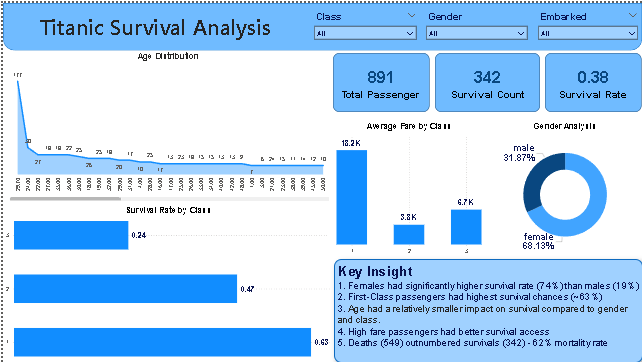

The dashboard page shown, as its layout file describes it:
{"tool":"powerbi","page":{"name":"Dashboard","canvas":[1280,720],"ordinal":0},"visuals":[{"type":"shape","box":[0,0,1278.3,95],"z":0},{"type":"card","fields":{"Values":["CountNonNull(Cleaned.PassengerId)"]},"box":[660,100,193.3,118.3],"z":0,"group":"g1"},{"type":"card","fields":{"Values":["Sum(Cleaned.Survived)"]},"box":[864.2,100,210,118.3],"z":1000,"group":"g1"},{"type":"donutChart","title":"Gender Analysis","fields":{"Category":["Cleaned.Sex"],"Y":["Sum(Cleaned.Survived)"]},"box":[970,231.7,308.3,280],"z":1000},{"type":"card","fields":{"Values":["Cleaned.Survival Rate"]},"box":[1083.3,100,193.3,118.3],"z":2000,"group":"g1"},{"type":"barChart","title":"Survival Rate by Class","fields":{"Category":["Cleaned.Pclass"],"Y":["Avg(Cleaned.Survived)"]},"box":[0,400,661.7,320],"z":2000},{"type":"areaChart","title":"Age Distribution","fields":{"Category":["Cleaned.Age"],"Y":["Sum(Cleaned.Survived)"]},"box":[0,95,661.7,305],"z":3000},{"type":"clusteredColumnChart","title":"Average Fare by Class","fields":{"Category":["Cleaned.Pclass"],"Y":["Sum(Cleaned.Fare)"]},"box":[651.7,231.7,320,280],"z":4000},{"type":"slicer","fields":{"Values":["Cleaned.Sex"]},"box":[836.7,0,223.3,95],"z":5000},{"type":"slicer","fields":{"Values":["Cleaned.Pclass"]},"box":[611.7,0,225,95],"z":6000},{"type":"slicer","fields":{"Values":["Cleaned.Embarked"]},"box":[1060,0,220,95],"z":7000},{"type":"textbox","box":[0,0,611.7,95],"z":8000},{"type":"textbox","box":[661.7,512.4,618.4,207.6],"z":9000},{"type":"group","id":"g1","title":"Group 1","box":[660,100,616.7,118.3],"z":10000}]}

Visuals, with their boxes in screenshot pixels (x1, y1, x2, y2), scaled from the page's 1280x720 canvas onto the 642x362 screenshot:
shape: [0,0,641,48]
card - CountNonNull(Cleaned.PassengerId): [331,50,428,110]
card - Sum(Cleaned.Survived): [433,50,539,110]
"Gender Analysis" donutChart: [487,116,641,257]
card - Cleaned.Survival Rate: [543,50,640,110]
"Survival Rate by Class" barChart: [0,201,332,361]
"Age Distribution" areaChart: [0,48,332,201]
"Average Fare by Class" clusteredColumnChart: [327,116,487,257]
slicer - Cleaned.Sex: [420,0,532,48]
slicer - Cleaned.Pclass: [307,0,420,48]
slicer - Cleaned.Embarked: [532,0,641,48]
textbox: [0,0,307,48]
textbox: [332,258,641,361]
"Group 1" group: [331,50,640,110]
